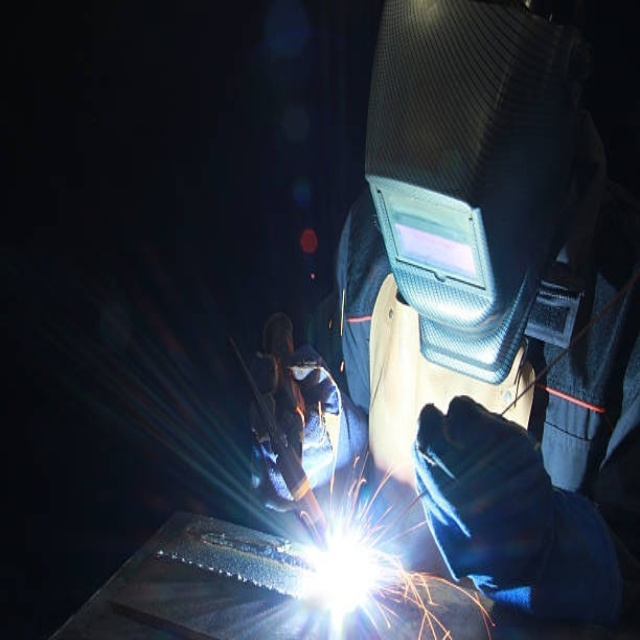Guantes: (411, 380, 617, 624), (241, 298, 357, 513)
